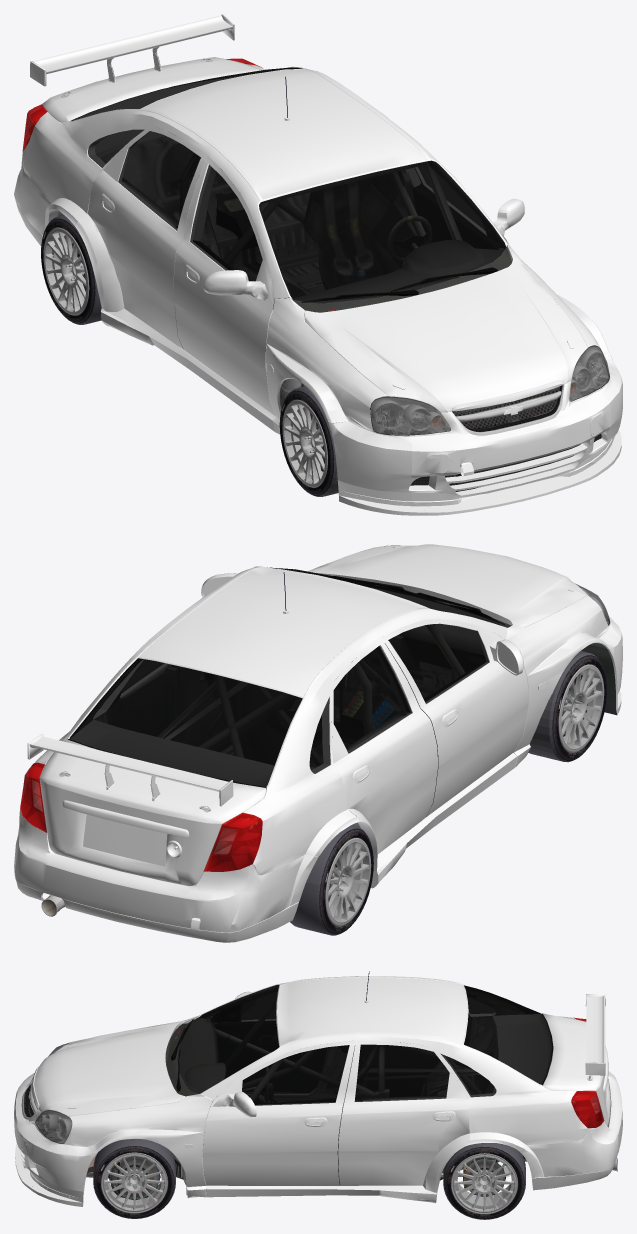
File: lacetti.glb
3 renders of one model, top to bottom at view 1: azimuth 30°, elevation 25°; view 2: azimuth 150°, elevation 25°; view 3: azimuth 270°, elevation 25°, orthographic. The views are drawn at different scales.
Visible parts, largest first — view 1: obj85_Material6_0, obj89_Material4_0, obj91_Material 585_0, obj98_Material 593_0, obj86_Material7_0, obj152_Sidewall_0, obj105_Material11_0, obj125_Material 593_0; view 2: obj85_Material6_0, obj89_Material4_0, obj91_Material 585_0, obj98_Material 593_0, obj152_Sidewall_0, obj88_Material 586_0, obj86_Material7_0; view 3: obj85_Material6_0, obj89_Material4_0, obj91_Material 585_0, obj98_Material 593_0, obj152_Sidewall_0, obj86_Material7_0, obj105_Material11_0, obj88_Material 586_0.
Boxes of the visible parts, box(x1,y1,x2,y2) form: obj85_Material6_0: box(14, 14, 622, 515); obj89_Material4_0: box(22, 58, 609, 435); obj91_Material 585_0: box(96, 68, 505, 349); obj98_Material 593_0: box(71, 75, 562, 434); obj86_Material7_0: box(29, 107, 609, 471); obj152_Sidewall_0: box(41, 218, 333, 495); obj105_Material11_0: box(277, 246, 511, 466); obj125_Material 593_0: box(394, 434, 601, 491); obj85_Material6_0: box(14, 544, 622, 942); obj89_Material4_0: box(20, 545, 610, 871); obj91_Material 585_0: box(69, 588, 499, 816); obj98_Material 593_0: box(40, 576, 616, 915); obj152_Sidewall_0: box(319, 655, 606, 934); obj88_Material 586_0: box(20, 763, 261, 871); obj86_Material7_0: box(26, 588, 609, 902); obj85_Material6_0: box(14, 976, 622, 1219); obj89_Material4_0: box(35, 985, 604, 1143); obj91_Material 585_0: box(178, 985, 540, 1184); obj98_Material 593_0: box(23, 1013, 617, 1170); obj152_Sidewall_0: box(94, 1146, 524, 1219); obj86_Material7_0: box(35, 1045, 602, 1199); obj105_Material11_0: box(32, 1016, 526, 1186); obj88_Material 586_0: box(571, 1020, 602, 1127).
Size of the model in its own units: 2.02 by 1.62 by 4.48.
9 materials, 9 textured.
